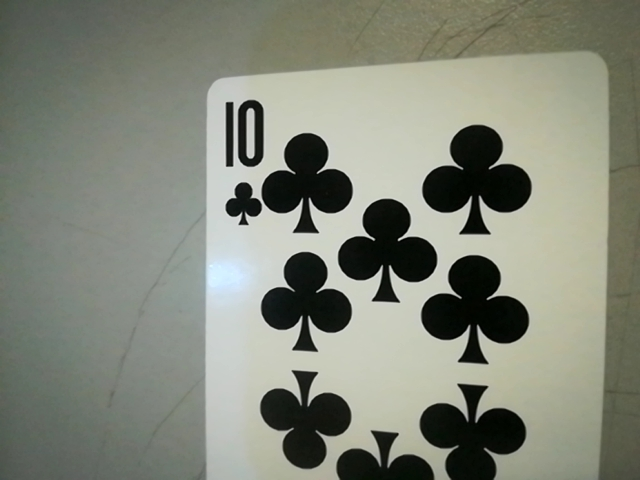mh 10: (209, 88, 272, 231)
